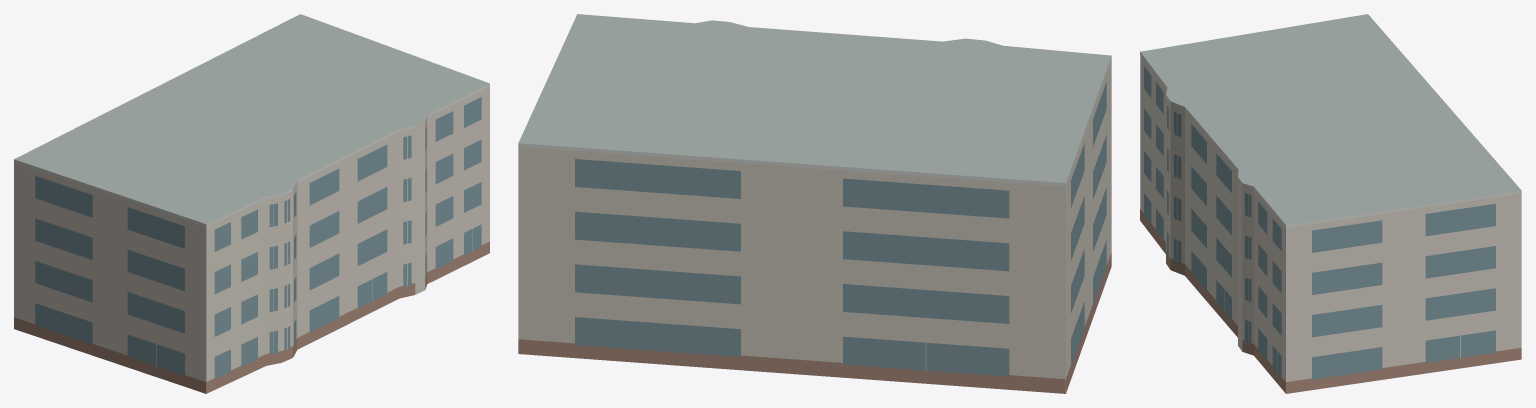
File: survey-upis-32852975.glb
3 renders of one model, left to right at view 1: azimuth 30°, elevation 25°; view 2: azimuth 150°, elevation 25°; view 3: azimuth 270°, elevation 25°, orthographic. The views are drawn at different scales.
Parts seen in each view (by area): view 1: survey-upis-32852975.tmp; view 2: survey-upis-32852975.tmp; view 3: survey-upis-32852975.tmp.
Part boxes in pixels (bbox=[...]): survey-upis-32852975.tmp: bbox=[14, 14, 489, 393]; survey-upis-32852975.tmp: bbox=[518, 14, 1111, 393]; survey-upis-32852975.tmp: bbox=[1140, 14, 1521, 393].
Bounding box in the file's own units: 37.79 × 14.1 × 28.88.
